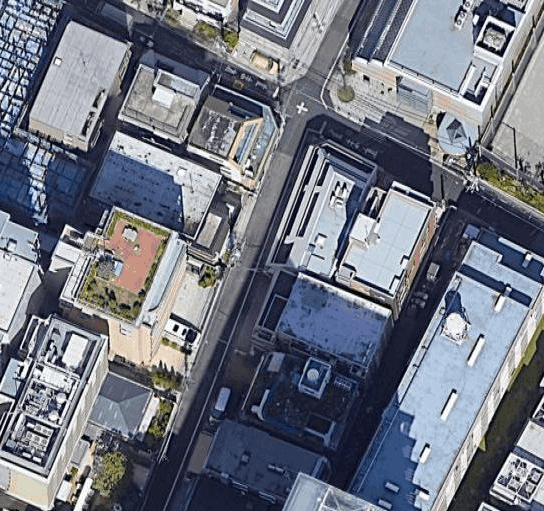facility: (360, 253, 542, 510), (0, 316, 106, 474), (237, 338, 359, 451), (197, 412, 316, 509), (294, 171, 373, 276)
flatroof: (86, 124, 224, 240), (254, 264, 394, 372), (23, 19, 133, 152), (183, 106, 247, 167)
rooftop: (59, 206, 177, 333), (331, 177, 442, 304), (401, 0, 523, 89), (114, 56, 205, 149)
